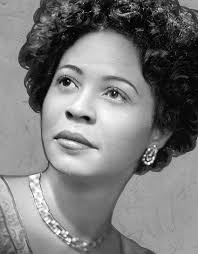black_female: (18, 1, 198, 184)
